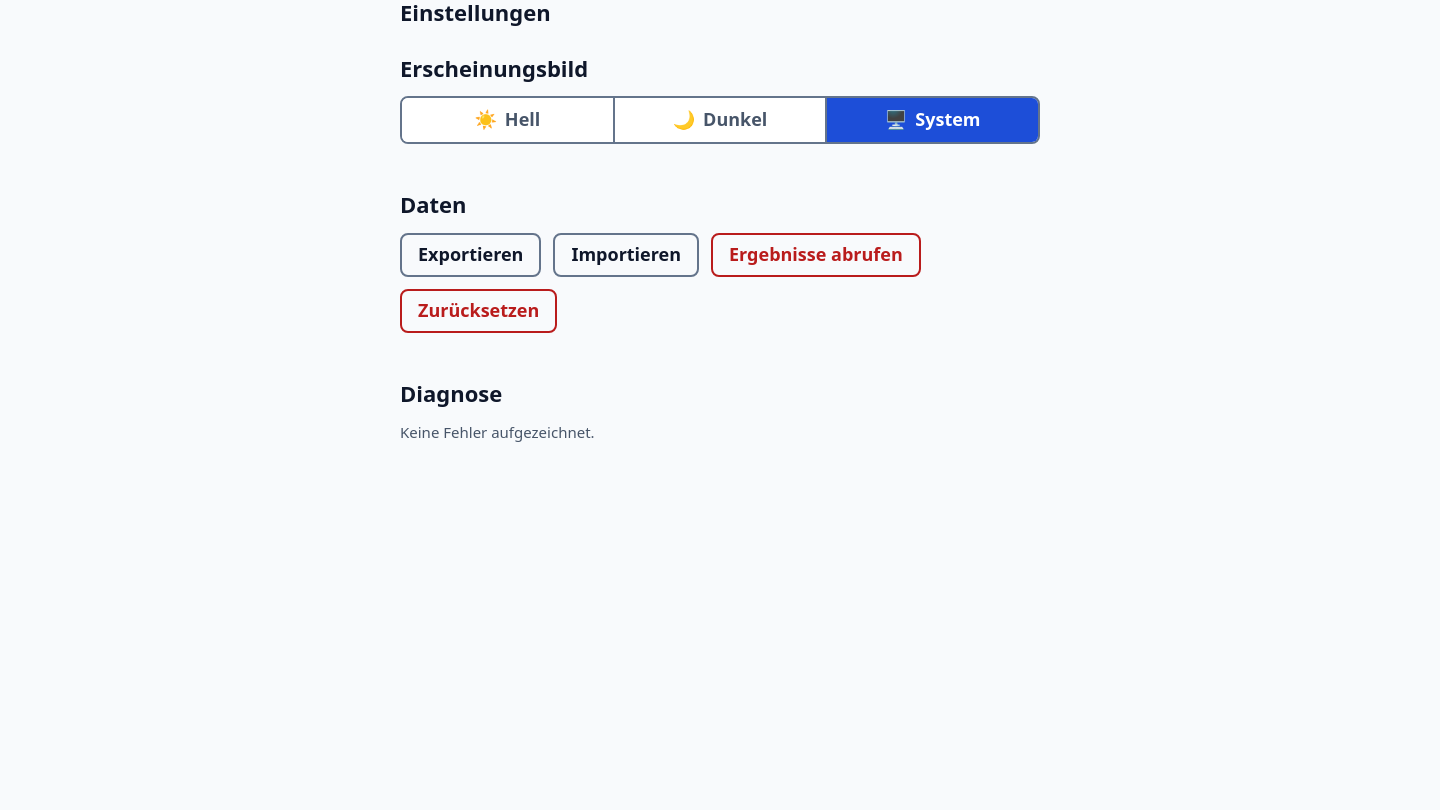
Test: SettingsView – sync results › shows an error and can retry to success
Click the button "Ergebnisse abrufen": x=816, y=255 x1=711 y1=233 x2=921 y2=277
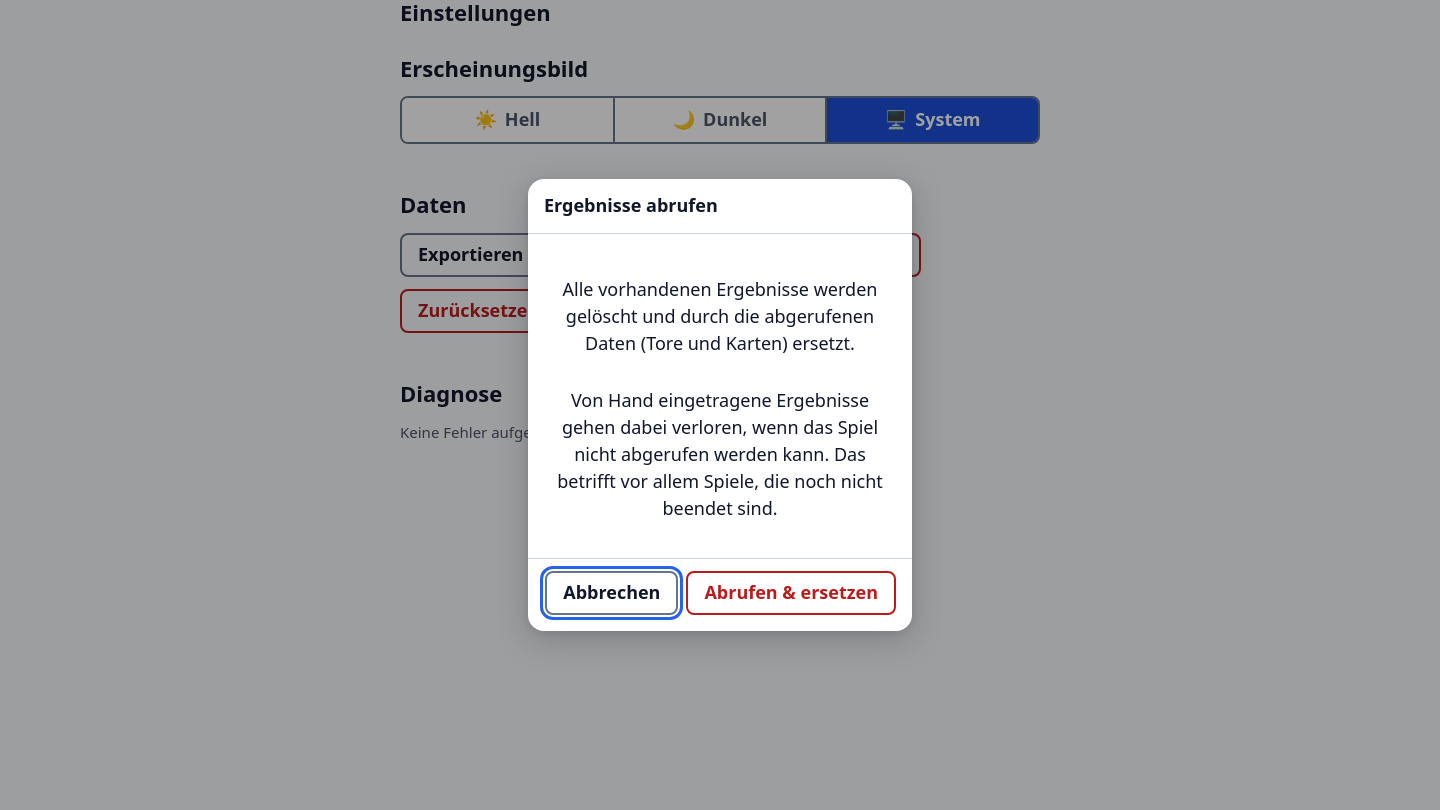
Click the button "Abrufen & ersetzen": x=791, y=593 x1=686 y1=571 x2=896 y2=615
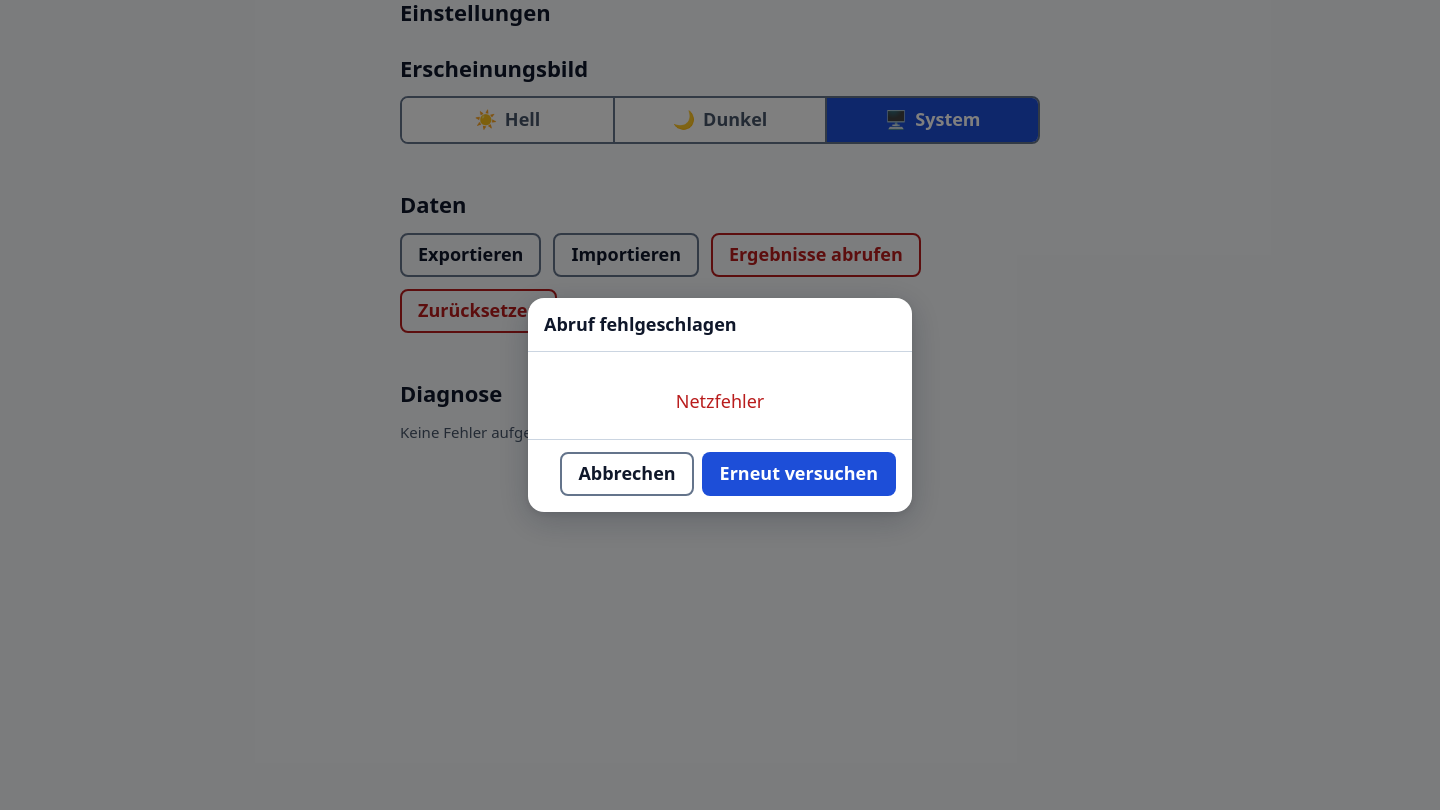
Expected: the message with class "sync-dialog__error" reads "Netzfehler", x1=676 y1=389 x2=764 y2=413
Click the button "Erneut versuchen": x=799, y=474 x1=702 y1=452 x2=896 y2=496
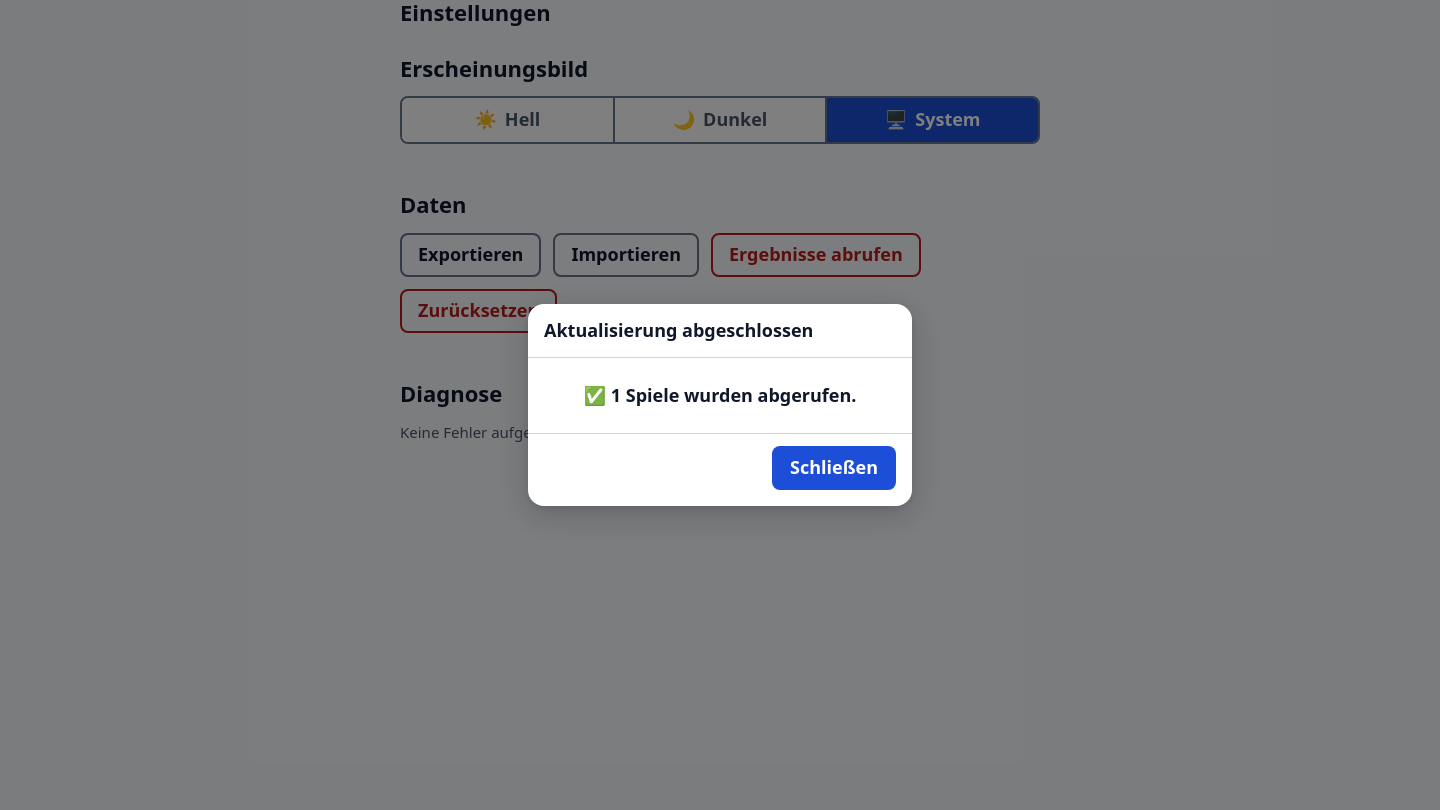
Expected: the dialog shows "abgerufen", x1=611 y1=383 x2=856 y2=407
